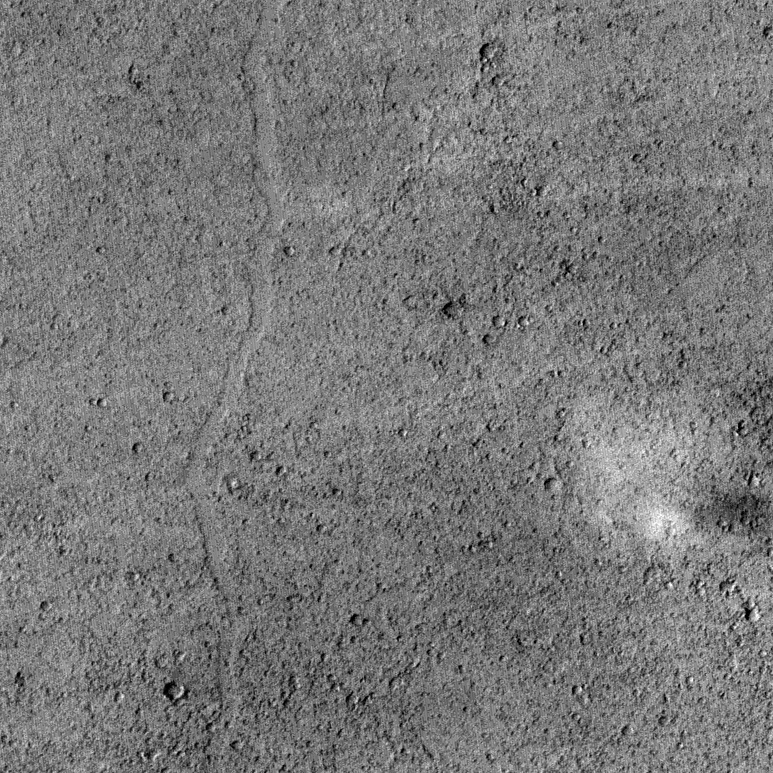dust_devil: (641, 486, 773, 545)
